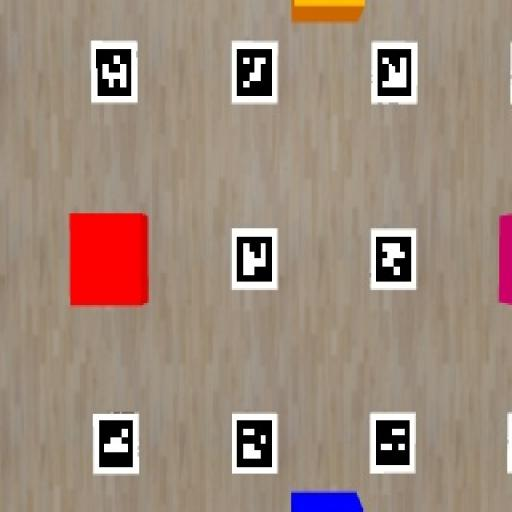car: (292, 491, 364, 511), (498, 214, 511, 305)
fire: (69, 214, 148, 307), (292, 0, 364, 23)
